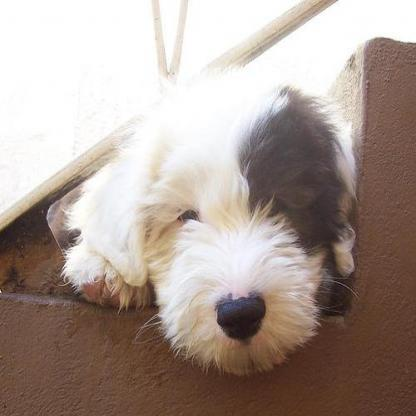Old_English_sheepdog: (59, 59, 357, 375)
